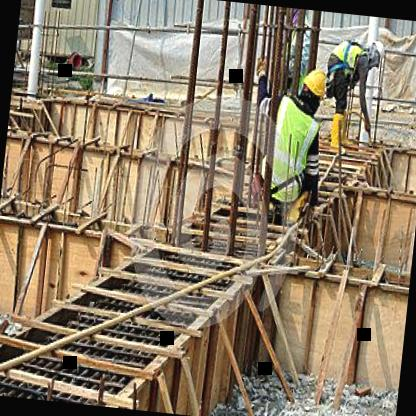helmet: (298, 64, 332, 107), (362, 36, 392, 74)
